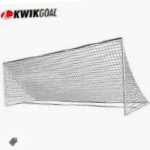goals: (1, 35, 149, 116)
